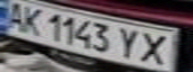1: (39, 11, 66, 42), (54, 15, 78, 45)
3: (90, 20, 118, 55)
4: (72, 17, 93, 51)
A: (0, 0, 30, 30)
K: (15, 4, 48, 36)
X: (133, 29, 178, 66)
Y: (115, 25, 148, 61)
